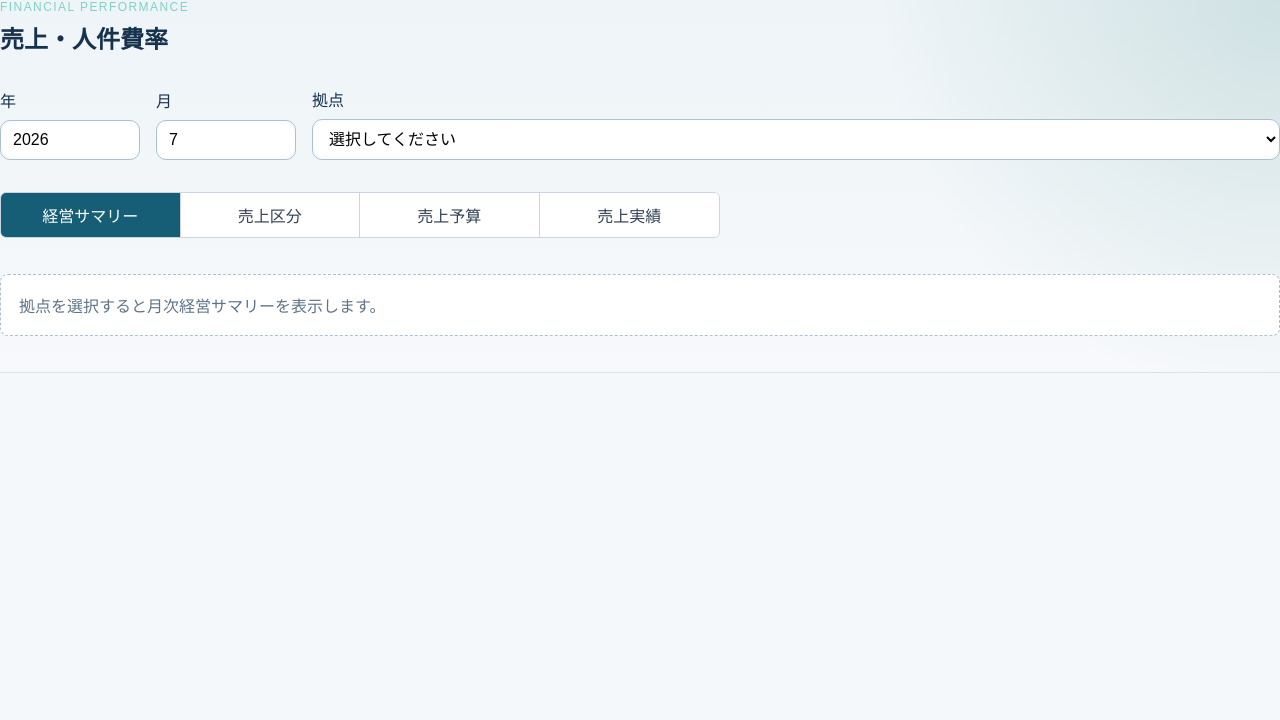
Scenario: FinancePerformancePage › shows the monthly performance summary, category variance, yen, percent, and source states
Check: the heading "売上・人件費率" is shown, box x1=0 y1=20 x2=189 y2=55
Select "本館" in the dropdown labelled "拠点": (796, 140) x1=312 y1=119 x2=1279 y2=160
(page scrolled)
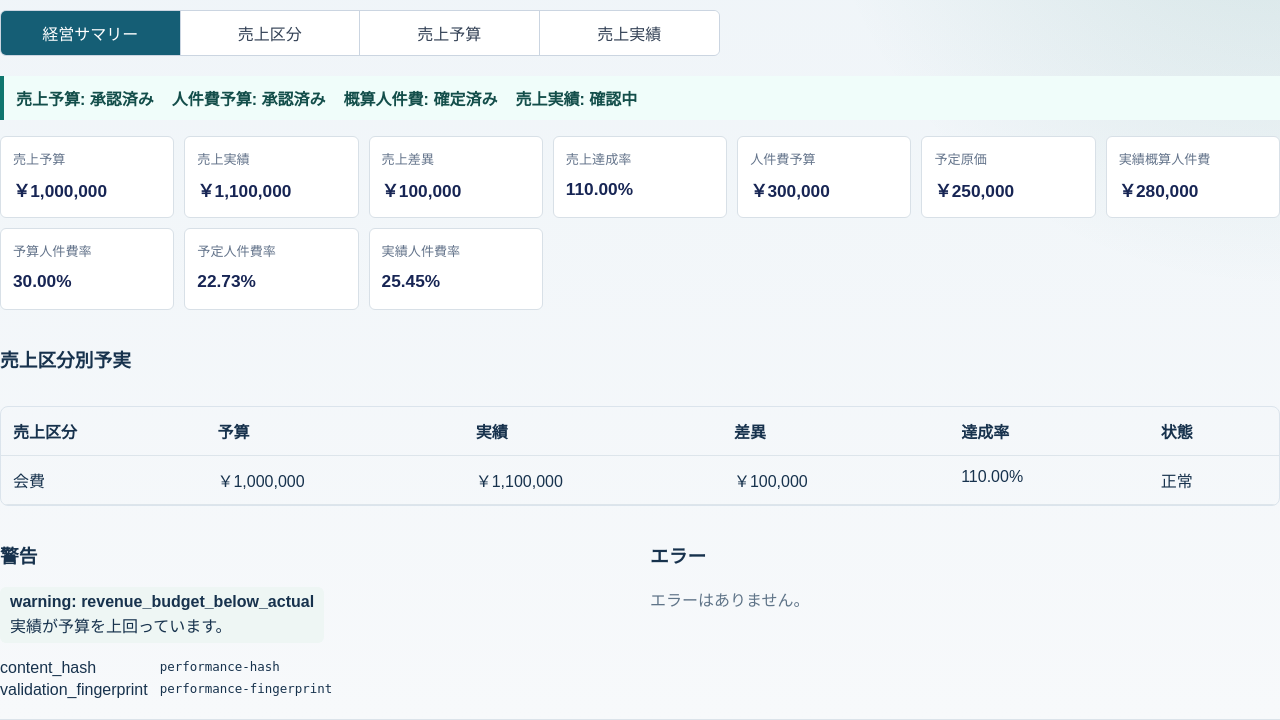
Check: the text "￥1,100,000" is shown, box x1=197 y1=180 x2=291 y2=200
Check: the text "￥100,000" is shown, box x1=382 y1=180 x2=461 y2=200
Check: the text "110.00%" is shown, box x1=566 y1=178 x2=633 y2=198
